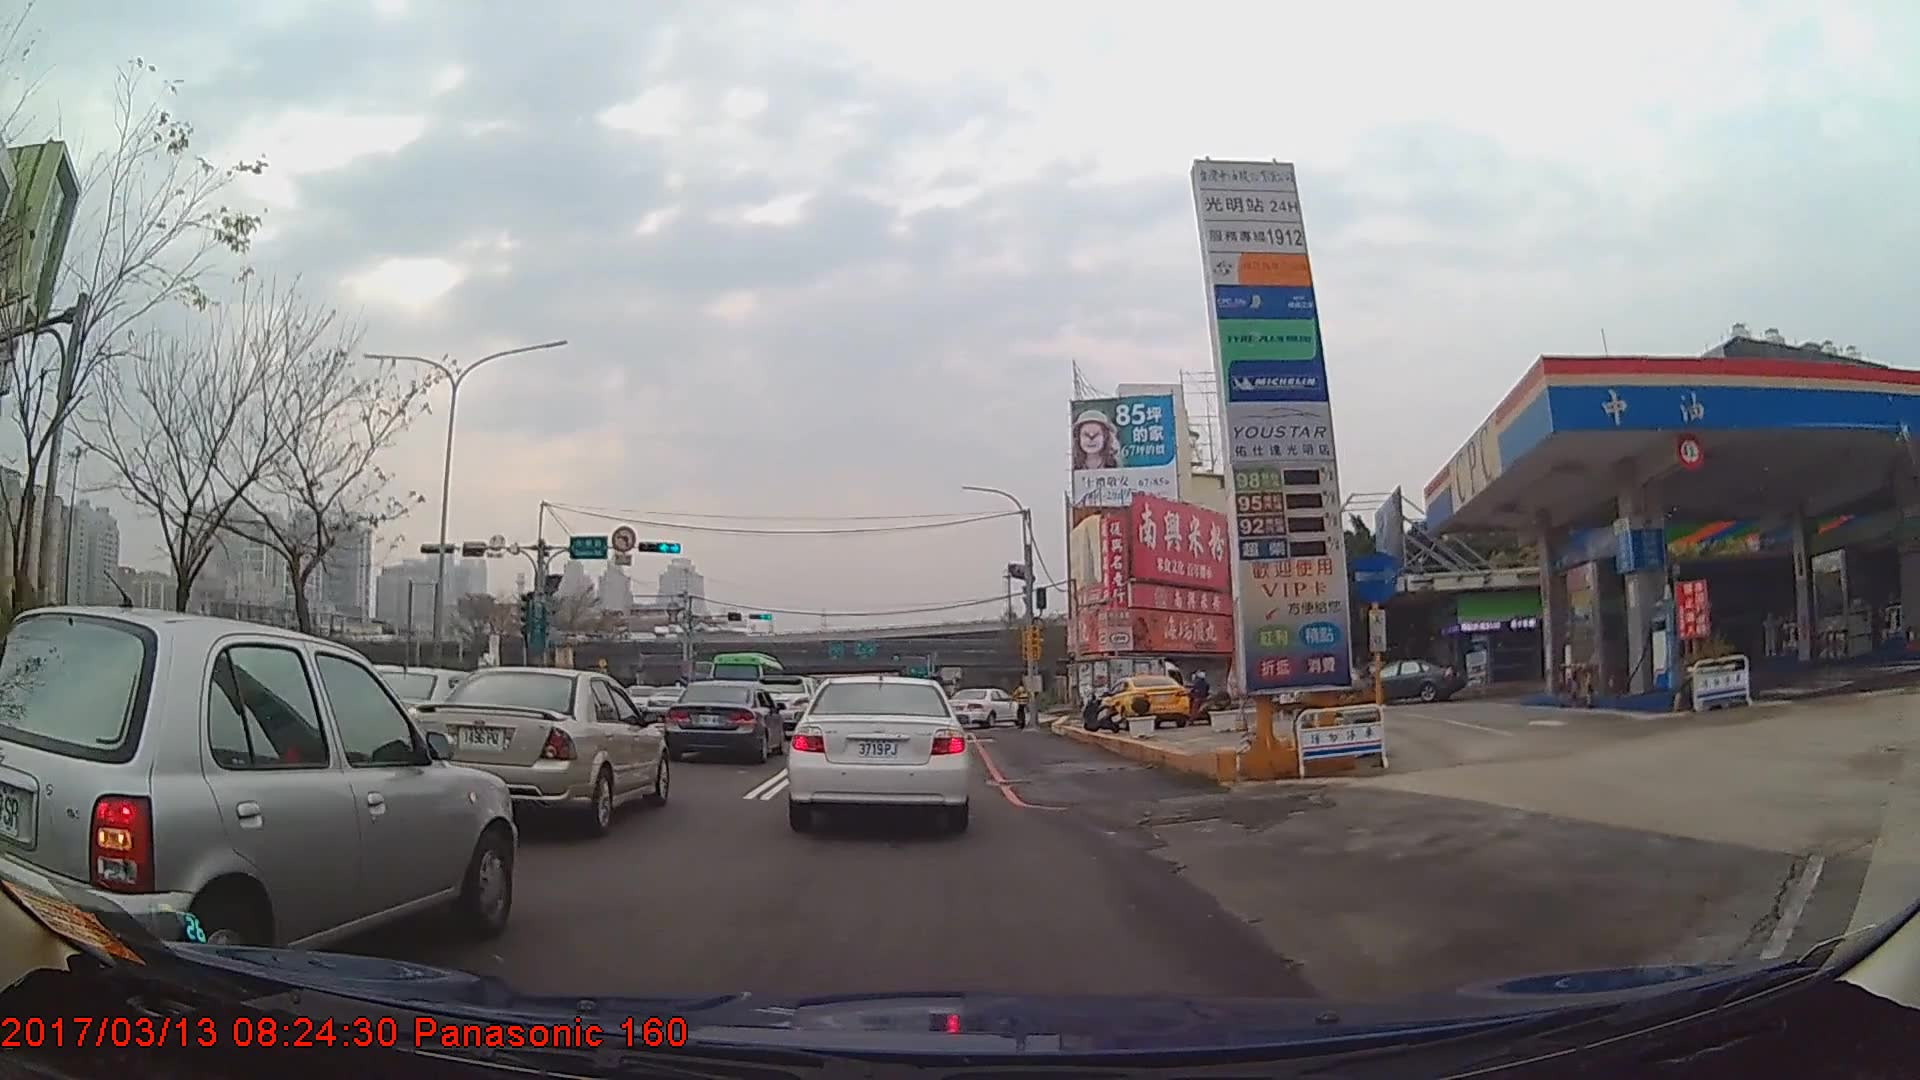rider: (1305, 662, 1342, 722), (1188, 671, 1223, 729)
vehicle: (0, 601, 516, 998), (410, 665, 672, 834), (788, 671, 972, 832), (661, 678, 788, 766), (1075, 654, 1187, 717), (1101, 674, 1192, 729), (707, 652, 786, 713), (1351, 660, 1464, 702), (947, 686, 1026, 730)
